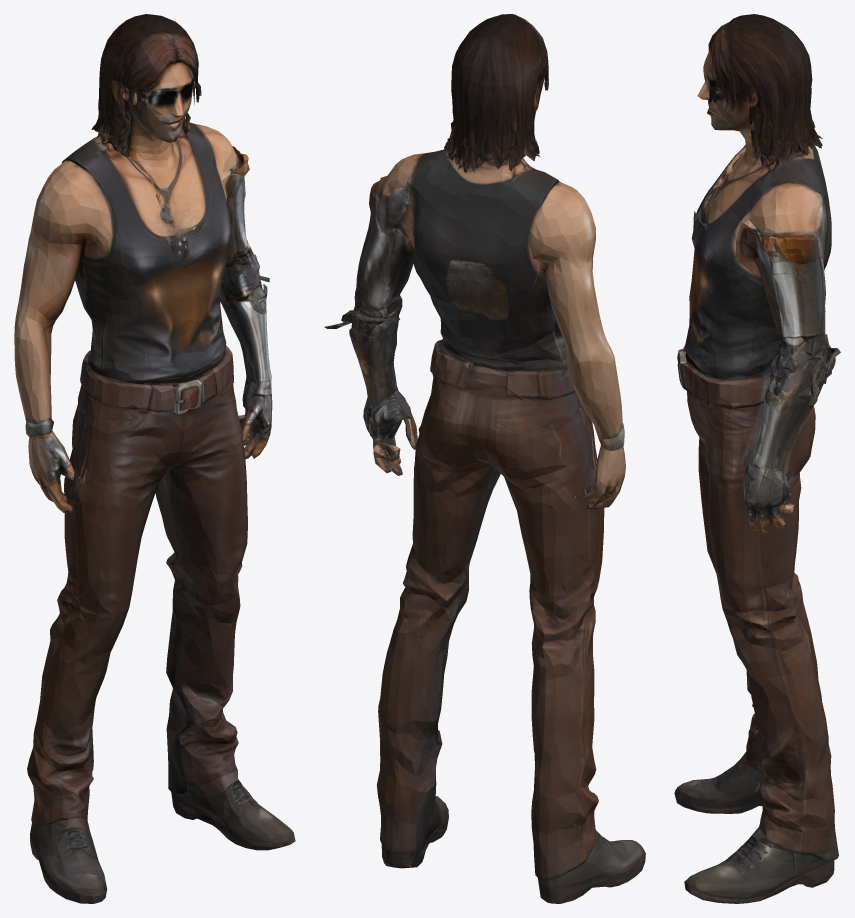
The model's file is Johnny_0610224506_texture.fbx.
3 renders of one model, left to right at view 1: azimuth 30°, elevation 25°; view 2: azimuth 150°, elevation 25°; view 3: azimuth 270°, elevation 25°, orthographic.
Visible parts, largest first — view 1: temp; view 2: temp; view 3: temp.
Boxes of the visible parts, x1,y1,x2,y2 form: temp: (14, 14, 295, 903); temp: (324, 14, 645, 903); temp: (674, 14, 840, 903).
Bounding box in the file's own units: 67.65 × 200 × 36.33.
1 material, 1 textured.
